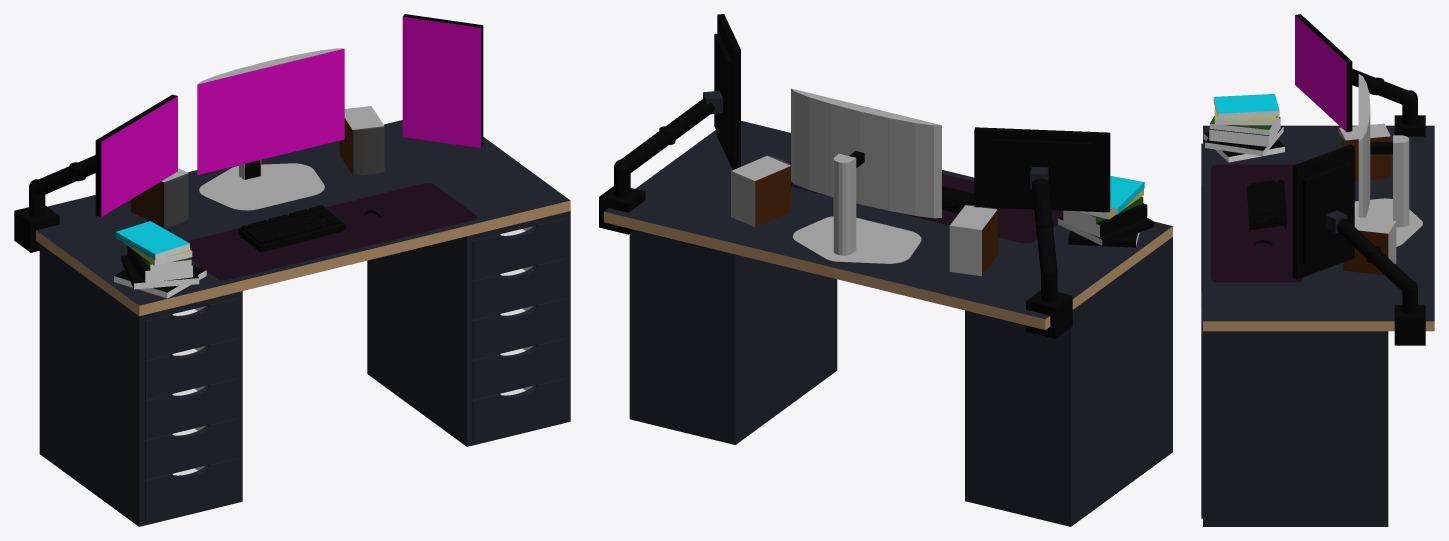
File: desk.glb
3 views of the same model, side by side, from view 1: azimuth 30°, elevation 25°; view 2: azimuth 150°, elevation 25°; view 3: azimuth 270°, elevation 25° (orthographic). The views are drawn at different scales.
Parts seen in each view (by area): view 1: Plank, Left_Box, Right_Box, Screen_Central, Screen_Right, MousePad, Screen_Left, ScreenStand_Central, Drawer_R_2, Drawer_R_3, Drawer_R_4, Drawer_R_0 (+15 smaller); view 2: Left_Box, Right_Box, Plank, Screen_Central, Screen_Left, ScreenStand_Central, Cylinder.001, Screen_Right, Cylinder, MousePad, ScreenStand_Left, RodStand_Right (+6 smaller); view 3: Right_Box, Plank, MousePad, Screen_Right, Screen_Left, ScreenStand_Central, Keyboard, Screen_Central, Cylinder.001, ScreenStand_Right, Book5, RodStand_Right (+10 smaller).
Boxes of the visible parts, x1,y1,x2,y2 form: Plank: (36, 120, 570, 316); Left_Box: (39, 244, 242, 526); Right_Box: (367, 211, 570, 446); Screen_Central: (197, 48, 344, 174); Screen_Right: (402, 14, 483, 147); MousePad: (187, 183, 477, 280); Screen_Left: (95, 94, 177, 216); ScreenStand_Central: (199, 160, 324, 210); Drawer_R_2: (472, 298, 565, 360); Drawer_R_3: (472, 258, 565, 320); Drawer_R_4: (472, 218, 565, 280); Drawer_R_0: (472, 378, 565, 439); Left_Box: (965, 237, 1172, 526); Right_Box: (629, 230, 837, 444); Plank: (604, 120, 1172, 329); Screen_Central: (791, 88, 941, 218); Screen_Left: (974, 127, 1110, 212); ScreenStand_Central: (793, 153, 921, 263); Cylinder.001: (731, 155, 790, 227); Screen_Right: (714, 14, 740, 169); Cylinder: (949, 205, 997, 276); MousePad: (788, 161, 1063, 243); ScreenStand_Left: (1026, 264, 1072, 338); RodStand_Right: (621, 98, 714, 173); Right_Box: (1203, 331, 1388, 526); Plank: (1203, 125, 1434, 331); MousePad: (1210, 164, 1303, 282); Screen_Right: (1292, 144, 1354, 279); Screen_Left: (1295, 14, 1352, 132); ScreenStand_Central: (1354, 135, 1422, 246); Keyboard: (1247, 179, 1286, 230); Screen_Central: (1358, 74, 1370, 217); Cylinder.001: (1342, 216, 1396, 275); ScreenStand_Right: (1394, 280, 1425, 345); Book5: (1213, 94, 1279, 119); RodStand_Right: (1337, 218, 1411, 291).
Size of the model in its own units: 1.55 by 1.22 by 0.7553.
